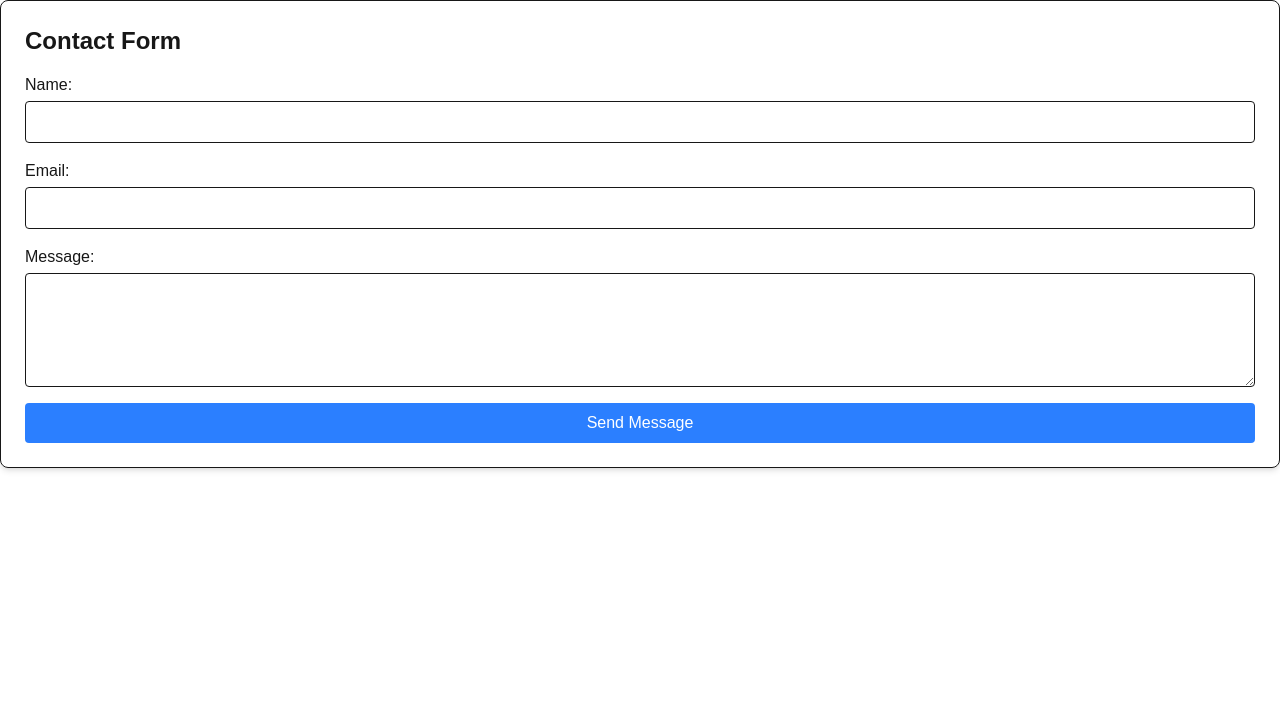
Test case: ContactForm Component › should show error when name is empty
The image size is (1280, 720).
Step 1. Click the button with test id "submit-button" → (640,423), box [25,403,1255,443]
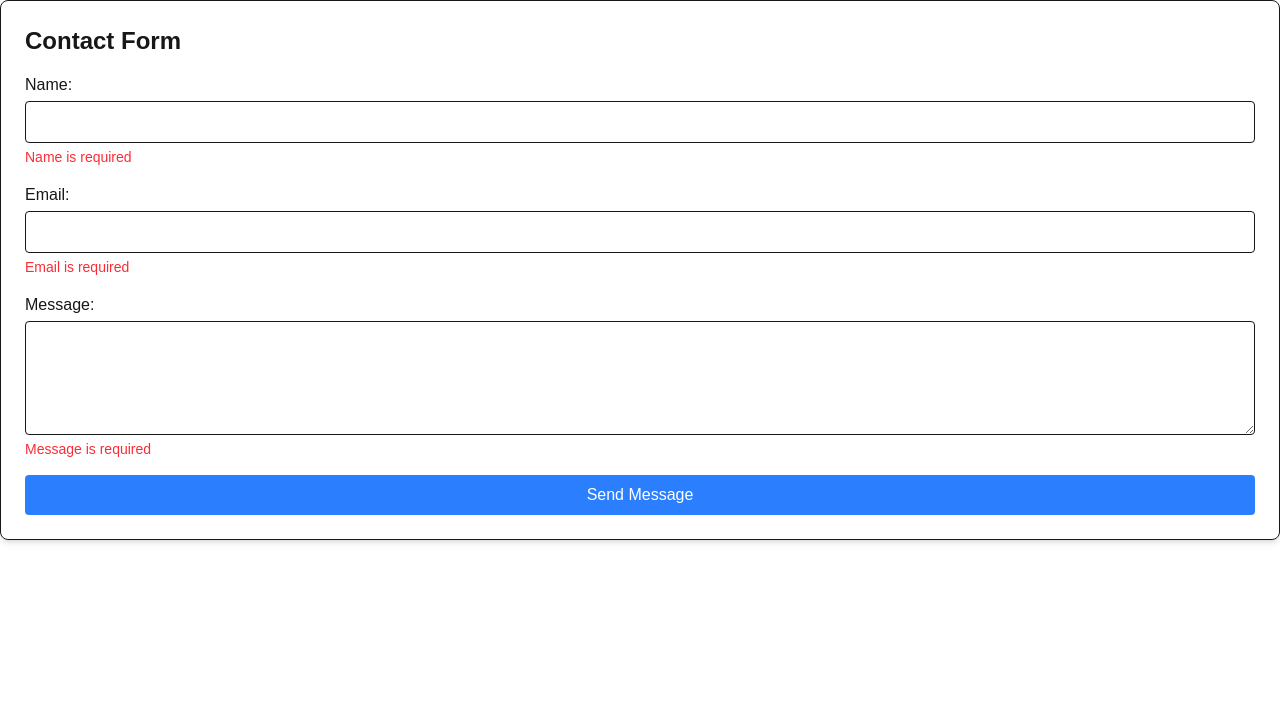
Expected: the text with test id "name-error" reads "Name is required", [25,149,132,165]
